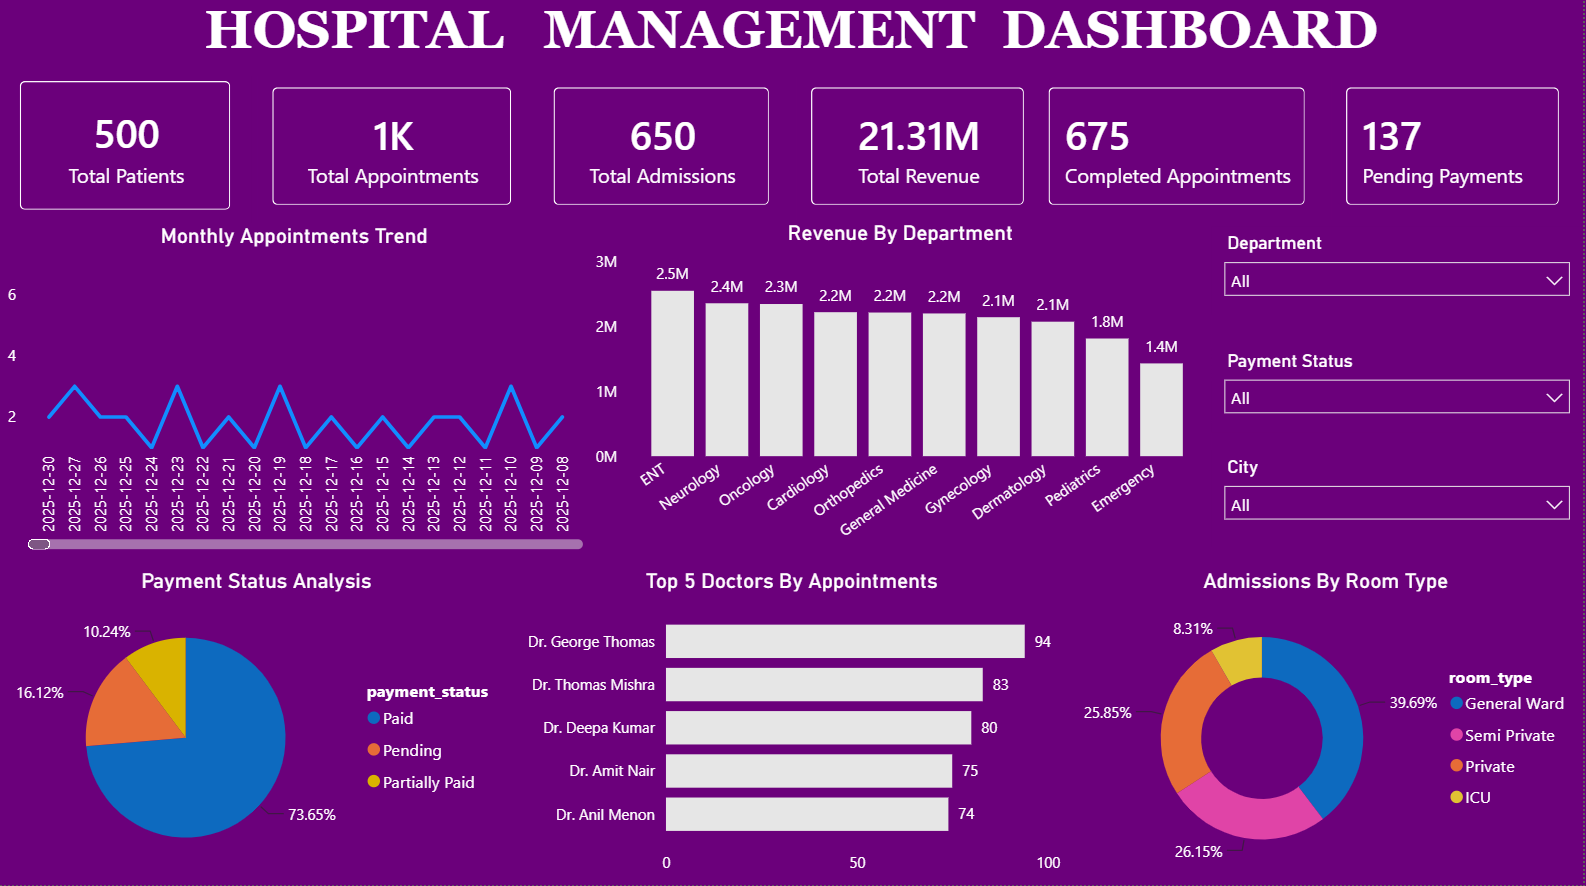

Layout of this report page (visuals, bound fields, positions):
{"tool":"powerbi","page":{"name":"Page 1","canvas":[1280,720],"ordinal":0},"visuals":[{"type":"cardVisual","fields":{"Data":["hospital_management appointments.Total Appointments"]},"box":[204.3,58.1,227.7,129.3],"z":0},{"type":"cardVisual","fields":{"Data":["hospital_management admissions.Total Admissions"]},"box":[431.1,58.1,208.1,129.3],"z":1000},{"type":"cardVisual","fields":{"Data":["hospital_management billing.Total Revenue"]},"box":[639.2,58.1,206.2,129.3],"z":2000},{"type":"cardVisual","fields":{"Data":["hospital_management appointments.Completed Appointments"]},"box":[831.3,58.1,241.8,129.3],"z":3000},{"type":"cardVisual","fields":{"Data":["hospital_management billing.Pending Payments"]},"box":[1072.1,58.1,206.2,129.3],"z":4000},{"type":"cardVisual","fields":{"Data":["hospital_management patients.Total Patients"]},"box":[0,53.4,204.3,138.7],"z":5000},{"type":"textbox","box":[0,0,1280.2,66.5],"z":6000},{"type":"lineChart","title":"Monthly Appointments Trend","fields":{"Category":["hospital_management appointments.appointment_date"],"Y":["CountNonNull(hospital_management appointments.appointment_id)"]},"box":[0,184.6,477,269],"z":7000},{"type":"clusteredColumnChart","title":"Revenue By Department","fields":{"Category":["hospital_management doctors.department"],"Y":["Sum(hospital_management billing.amount)"]},"box":[477,182.8,503.3,270.8],"z":8000},{"type":"donutChart","title":"Admissions By Room Type","fields":{"Category":["hospital_management admissions.room_type"],"Y":["CountNonNull(hospital_management admissions.admission_id)"]},"box":[865,463.9,415.2,256.8],"z":9000},{"type":"pieChart","title":"Payment Status Analysis","fields":{"Category":["hospital_management billing.payment_status"],"Y":["CountNonNull(hospital_management billing.bill_id)"]},"box":[0,463.9,416.1,255.9],"z":10000},{"type":"clusteredBarChart","title":"Top 5 Doctors By Appointments","fields":{"Category":["hospital_management doctors.doctor_name"],"Y":["CountNonNull(hospital_management appointments.appointment_id)"]},"box":[416.1,463.9,448.9,256.8],"z":11000},{"type":"slicer","fields":{"Values":["hospital_management doctors.department"]},"box":[980.3,187.4,299.9,71.2],"z":12000},{"type":"slicer","fields":{"Values":["hospital_management patients.city"]},"box":[980.3,368.3,299.9,78.7],"z":13000},{"type":"slicer","fields":{"Values":["hospital_management billing.payment_status"]},"box":[980.3,283,299.9,71.2],"z":14000}]}

Visuals, with their boxes in screenshot pixels (x1, y1, x2, y2), scaled from the page's 1280x720 canvas onto the 1586x886 screenshot:
cardVisual - hospital_management appointments.Total Appointments: region(253, 71, 535, 231)
cardVisual - hospital_management admissions.Total Admissions: region(534, 71, 792, 231)
cardVisual - hospital_management billing.Total Revenue: region(792, 71, 1048, 231)
cardVisual - hospital_management appointments.Completed Appointments: region(1030, 71, 1330, 231)
cardVisual - hospital_management billing.Pending Payments: region(1328, 71, 1584, 231)
cardVisual - hospital_management patients.Total Patients: region(0, 66, 253, 236)
textbox: region(0, 0, 1585, 82)
"Monthly Appointments Trend" lineChart: region(0, 227, 591, 558)
"Revenue By Department" clusteredColumnChart: region(591, 225, 1215, 558)
"Admissions By Room Type" donutChart: region(1072, 571, 1585, 885)
"Payment Status Analysis" pieChart: region(0, 571, 516, 885)
"Top 5 Doctors By Appointments" clusteredBarChart: region(516, 571, 1072, 885)
slicer - hospital_management doctors.department: region(1215, 231, 1585, 318)
slicer - hospital_management patients.city: region(1215, 453, 1585, 550)
slicer - hospital_management billing.payment_status: region(1215, 348, 1585, 436)
